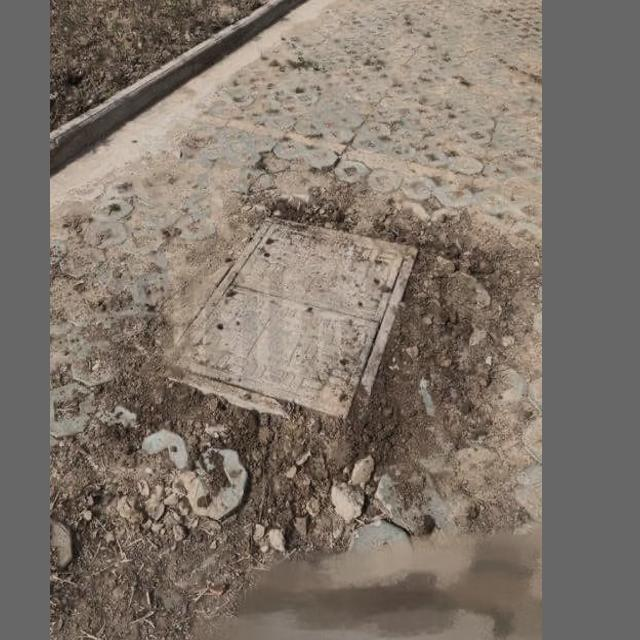circle: (141, 210, 441, 457)
